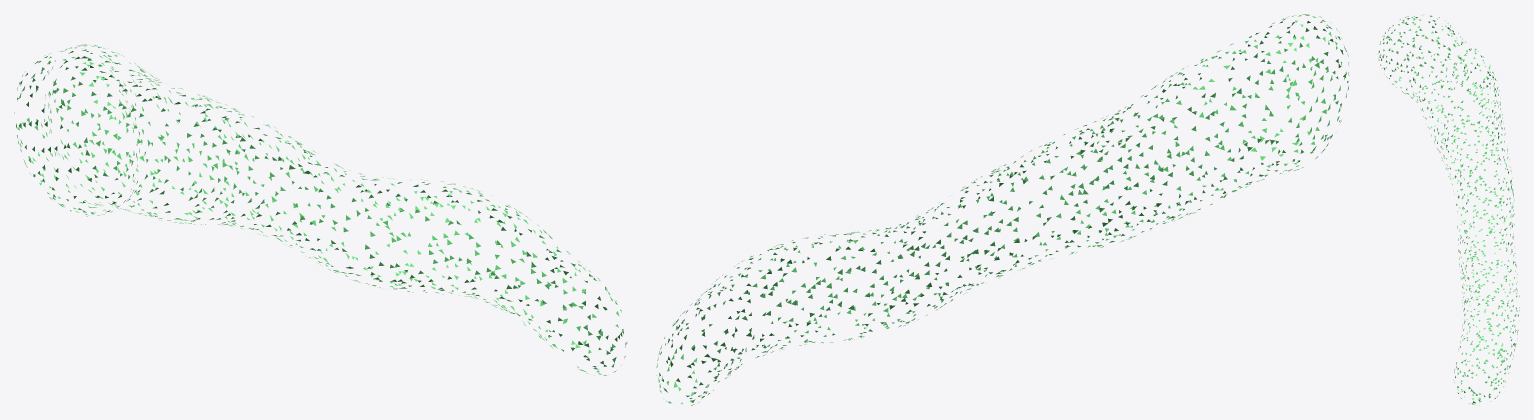
Rendered from morph_019.glb.
The picture shows the model from 3 angles, left to right: view 1: azimuth 30°, elevation 25°; view 2: azimuth 150°, elevation 25°; view 3: azimuth 270°, elevation 25°; orthographic projection. The views are drawn at different scales.
Size of the model in its own units: 85.92 by 64.9 by 33.53.
